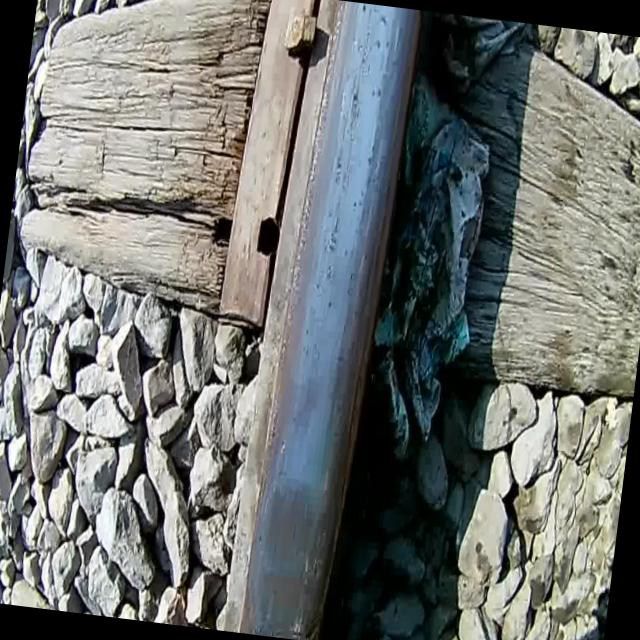Squats: (246, 468, 344, 624)
